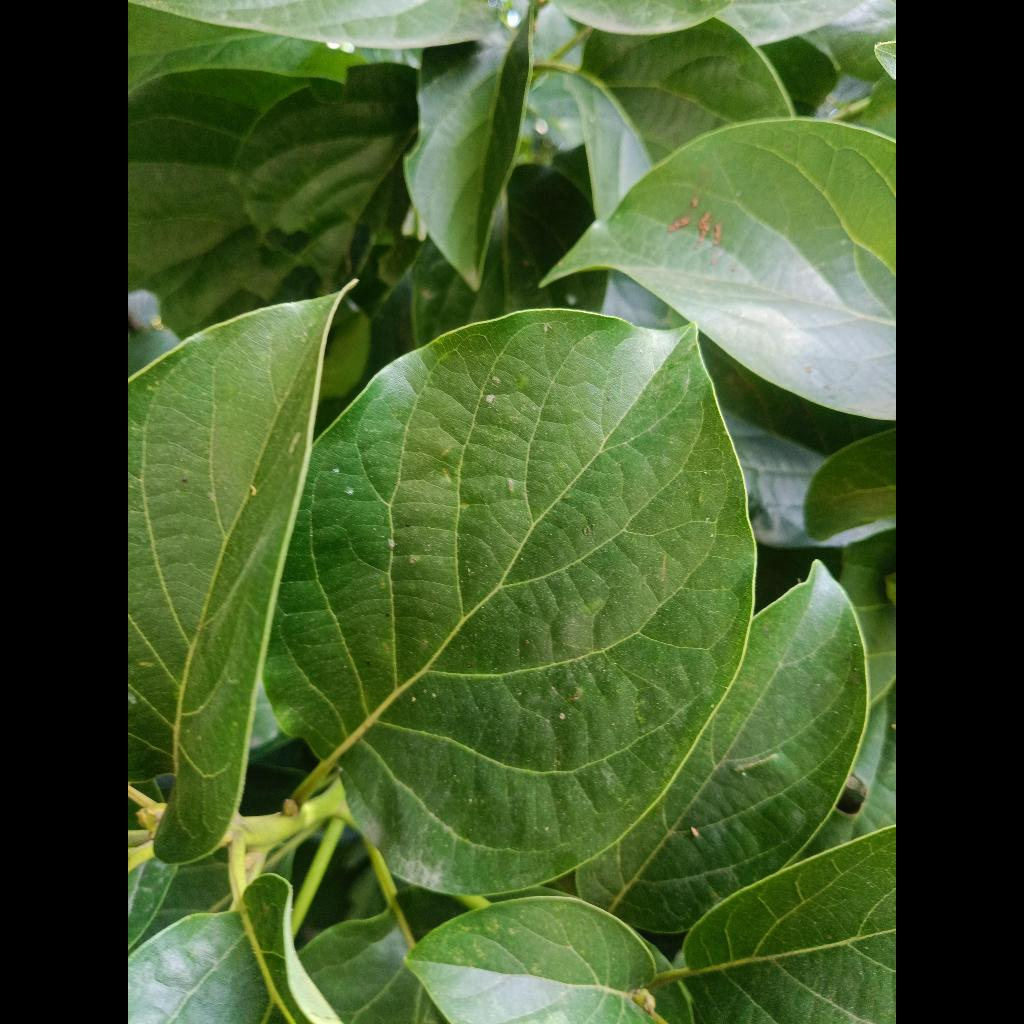Healthy: (265, 310, 754, 892)
